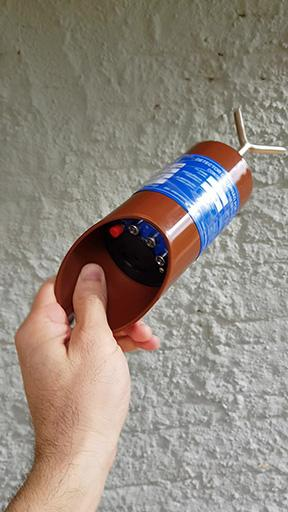Detector_Tensao_Contato: (54, 107, 285, 327)
